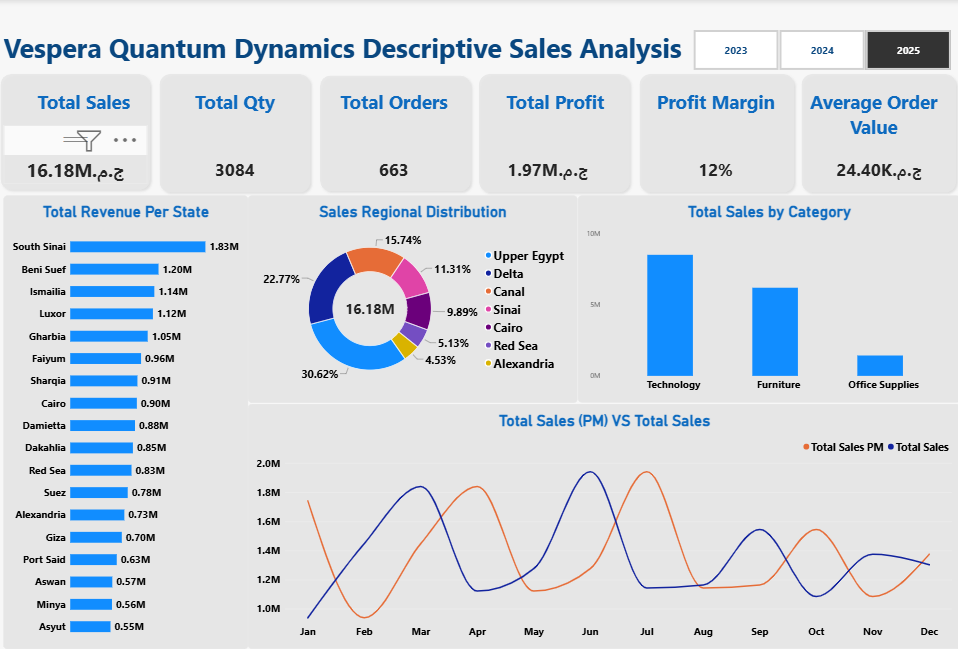

This screenshot's page, from the dashboard's own definition file:
{"tool":"powerbi","page":{"name":"Page 1","canvas":[2500,1300],"ordinal":0},"visuals":[{"type":"shape","box":[1260,80,320,255],"z":2000},{"type":"shape","box":[617.5,80,320,255],"z":3000},{"type":"shape","box":[940,85,320,250],"z":4000},{"type":"shape","box":[300.5,81.1,317.5,250],"z":5000},{"type":"shape","box":[1580,80,327.5,255],"z":6000},{"type":"textbox","box":[315.5,0,1917,186.3],"z":7000},{"type":"cardVisual","fields":{"Data":["DAX.Total Sales"]},"box":[315,252.5,287.5,57.5],"z":8000},{"type":"cardVisual","fields":{"Data":["DAX.Total Profit"]},"box":[1262.5,252.5,287.5,57.5],"z":9000},{"type":"cardVisual","fields":{"Data":["DAX.Total Orders"]},"box":[952.5,252.5,290,57.5],"z":10000},{"type":"cardVisual","fields":{"Data":["DAX.Total Quantity"]},"box":[632.5,252.5,290,57.5],"z":11000},{"type":"cardVisual","fields":{"Data":["DAX.Profit Margin"]},"box":[1597.5,252.5,287.5,57.5],"z":12000},{"type":"textbox","box":[332.5,120,285,62.5],"z":13000},{"type":"textbox","box":[1597.5,120,287.5,62.5],"z":14000},{"type":"textbox","box":[632.5,120,290,62.5],"z":15000},{"type":"textbox","box":[952.5,120,290,62.5],"z":16000},{"type":"textbox","box":[1262.5,120,317.5,62.5],"z":17000},{"type":"shape","box":[1905,80,327.5,255],"z":18000},{"type":"cardVisual","fields":{"Data":["DAX.Average Order Value"]},"box":[1925,252.5,287.5,57.5],"z":19000},{"type":"textbox","box":[1905,120,307.5,132.5],"z":20000},{"type":"barChart","title":"Total Revenue Per State","fields":{"Category":["Location dim table.State"],"Y":["Sum(Fact Table.Sales)"]},"box":[315.5,333.5,489.8,910.4],"z":21000},{"type":"columnChart","title":"Total Sales by Category","fields":{"Category":["Product dim table.Category"],"Y":["Sum(Fact Table.Sales)"]},"box":[1466.3,333.5,766.2,414.6],"z":22000},{"type":"donutChart","title":"Sales Regional Distribution","fields":{"Category":["Location dim table.Region"],"Y":["DAX.Total Sales"]},"box":[805,335,660,415],"z":23000},{"type":"lineChart","title":"Total Sales (PM) VS Total Sales","fields":{"Category":["Calendar Date.Month Name"],"Y":["DAX.Total Sales PM","DAX.Total Sales"]},"box":[805.3,751.2,1427.2,492.8],"z":24000},{"type":"slicer","fields":{"Values":["Calendar Date.Year"]},"box":[1676.6,0,555.9,84.1],"z":25000}]}

Visuals, with their boxes on the page's 2500x1300 design canvas (x1, y1, x2, y2). These are canvas units, not pixel positions in the 958x649 screenshot, which may show the page scaled, cropped or inside an application window:
shape: bbox=(1260, 80, 1580, 335)
shape: bbox=(618, 80, 938, 335)
shape: bbox=(940, 85, 1260, 335)
shape: bbox=(300, 81, 618, 331)
shape: bbox=(1580, 80, 1908, 335)
textbox: bbox=(316, 0, 2232, 186)
cardVisual - DAX.Total Sales: bbox=(315, 252, 602, 310)
cardVisual - DAX.Total Profit: bbox=(1262, 252, 1550, 310)
cardVisual - DAX.Total Orders: bbox=(952, 252, 1242, 310)
cardVisual - DAX.Total Quantity: bbox=(632, 252, 922, 310)
cardVisual - DAX.Profit Margin: bbox=(1598, 252, 1885, 310)
textbox: bbox=(332, 120, 618, 182)
textbox: bbox=(1598, 120, 1885, 182)
textbox: bbox=(632, 120, 922, 182)
textbox: bbox=(952, 120, 1242, 182)
textbox: bbox=(1262, 120, 1580, 182)
shape: bbox=(1905, 80, 2232, 335)
cardVisual - DAX.Average Order Value: bbox=(1925, 252, 2212, 310)
textbox: bbox=(1905, 120, 2212, 252)
"Total Revenue Per State" barChart: bbox=(316, 334, 805, 1244)
"Total Sales by Category" columnChart: bbox=(1466, 334, 2232, 748)
"Sales Regional Distribution" donutChart: bbox=(805, 335, 1465, 750)
"Total Sales (PM) VS Total Sales" lineChart: bbox=(805, 751, 2232, 1244)
slicer - Calendar Date.Year: bbox=(1677, 0, 2232, 84)
